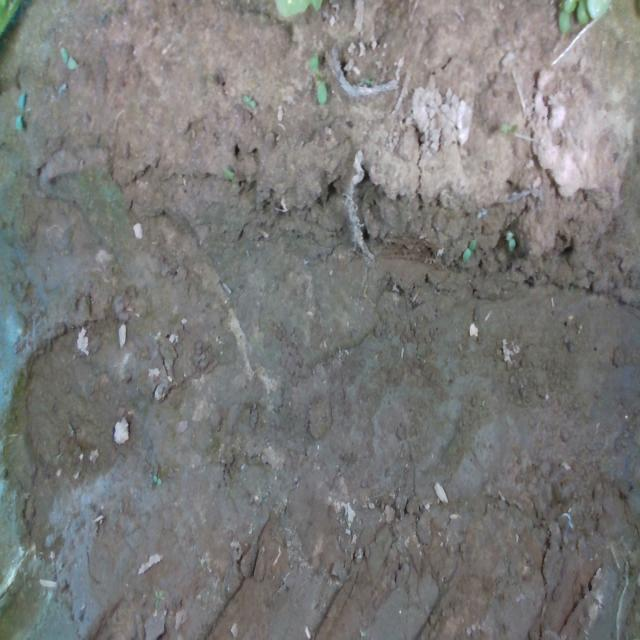weed: (308, 54, 328, 106), (14, 90, 26, 132), (58, 46, 78, 70), (461, 236, 476, 262), (240, 92, 256, 110), (505, 230, 515, 252)
